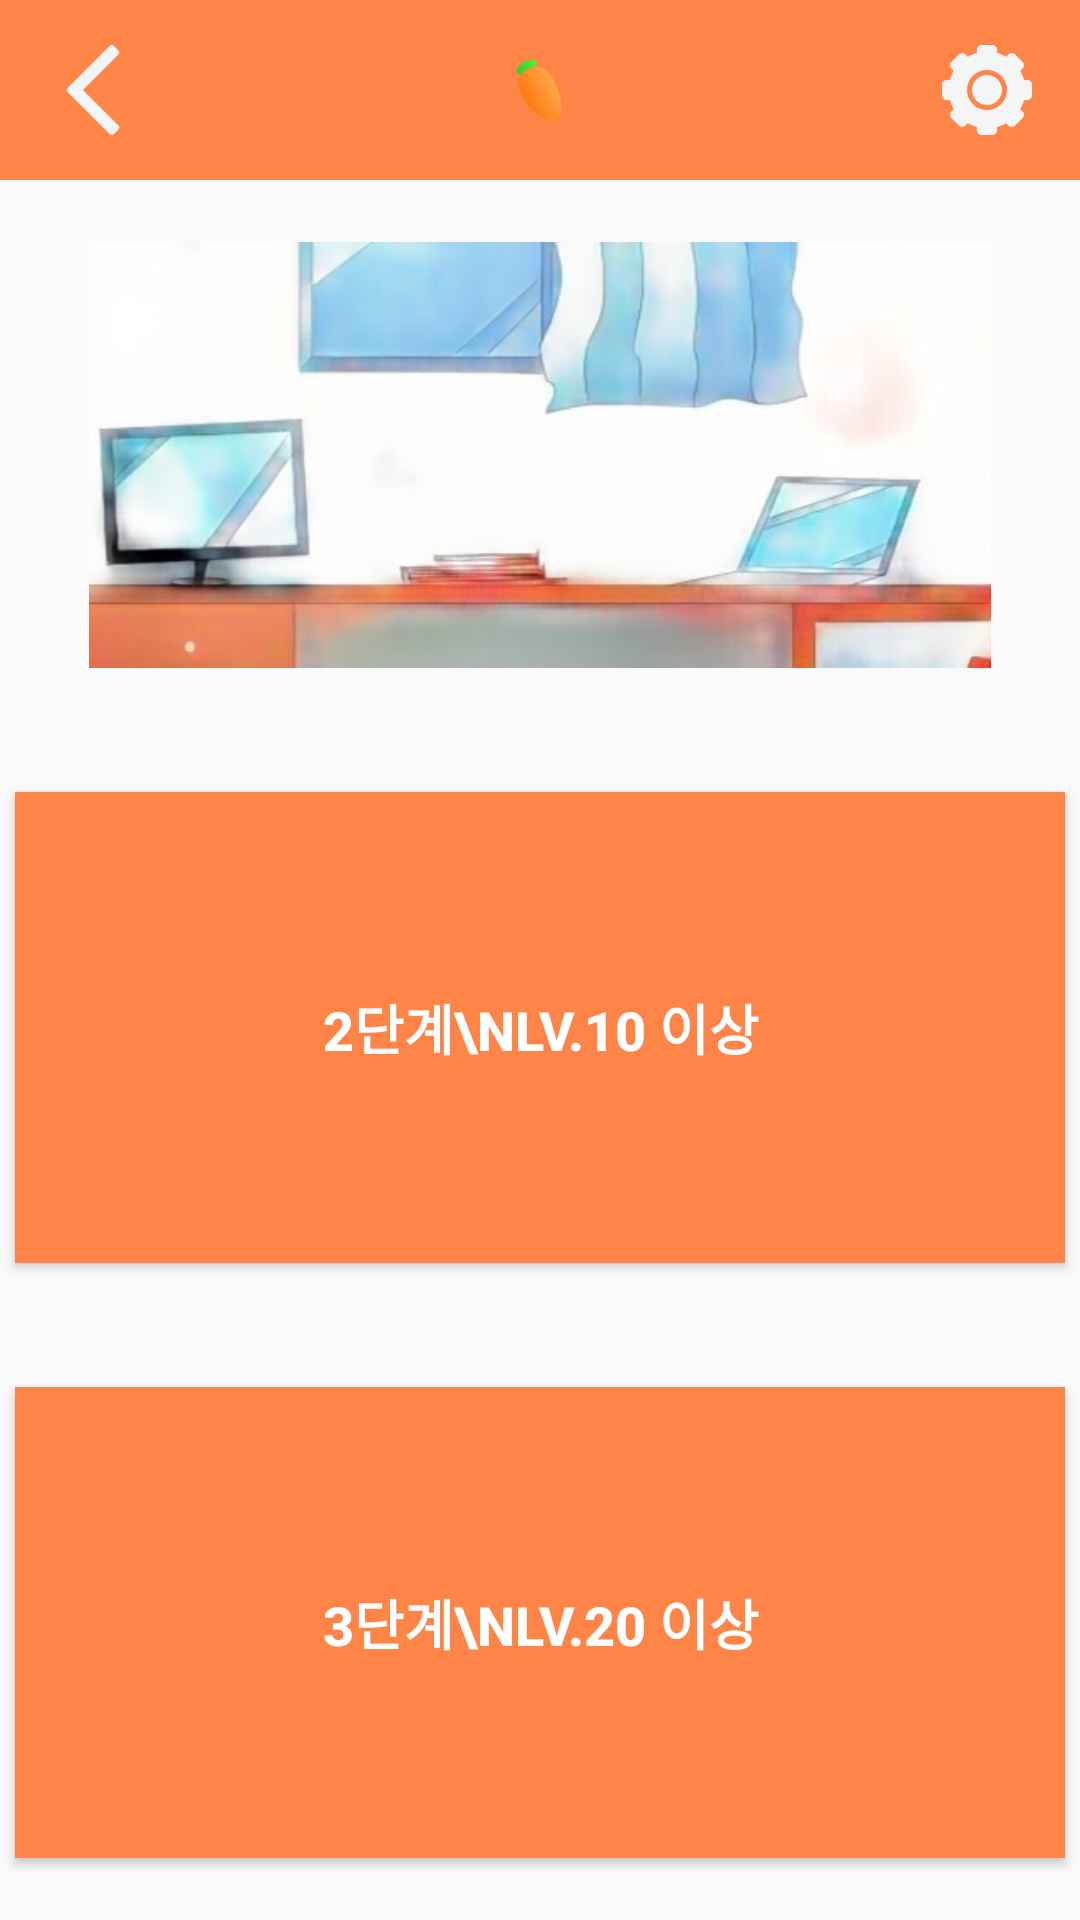

Where icons sit on this 1080*1920 app screen, as (x1, y1, x2, y2):
backkey: (66, 45, 120, 135)
carrot: (515, 59, 561, 121)
settings: (942, 45, 1032, 135)
